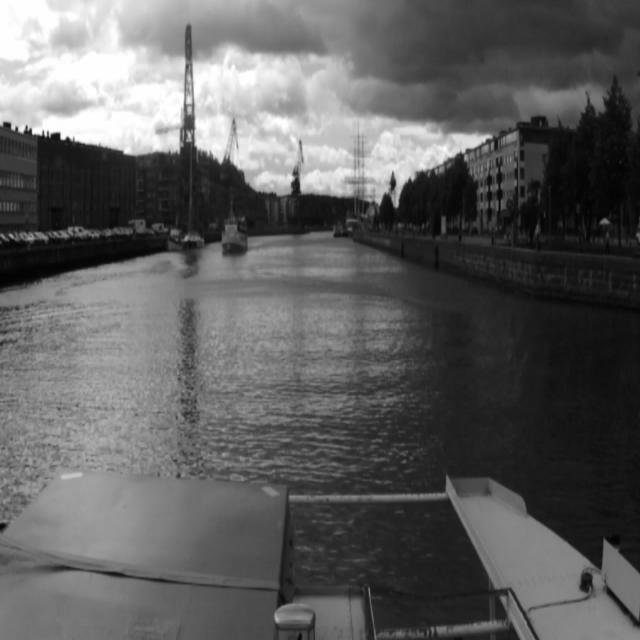ship: (180, 144, 206, 252), (222, 220, 248, 256), (332, 223, 340, 237)
